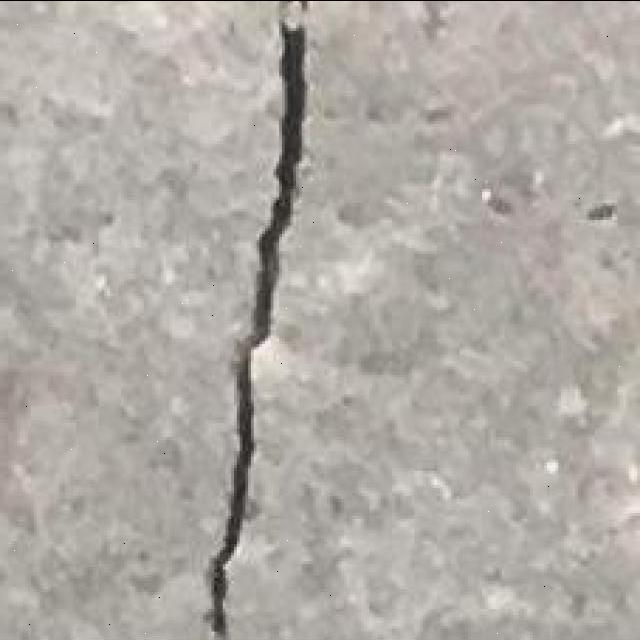crack: (204, 10, 308, 636)
